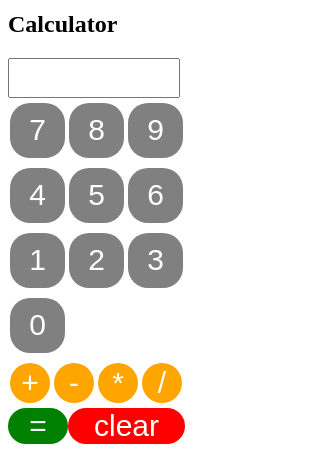
Test: Testing Calculator › should user input after clicking several numbers
The image size is (320, 461).
Click the button "1": (38, 260) [10, 233, 65, 288]
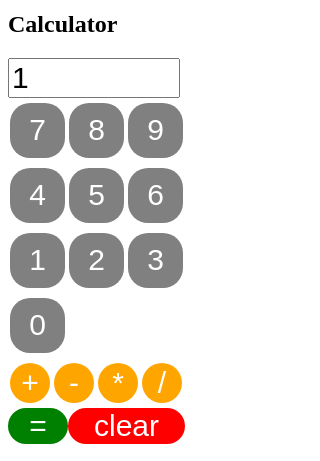
Click the button "2": (96, 260) [69, 233, 124, 288]
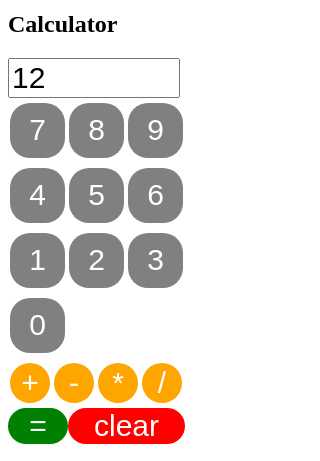
Click the button "3": (156, 260) [128, 233, 183, 288]
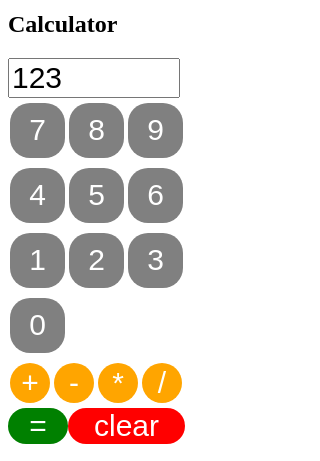
Now the field holds "123", box [8, 58, 180, 98]
